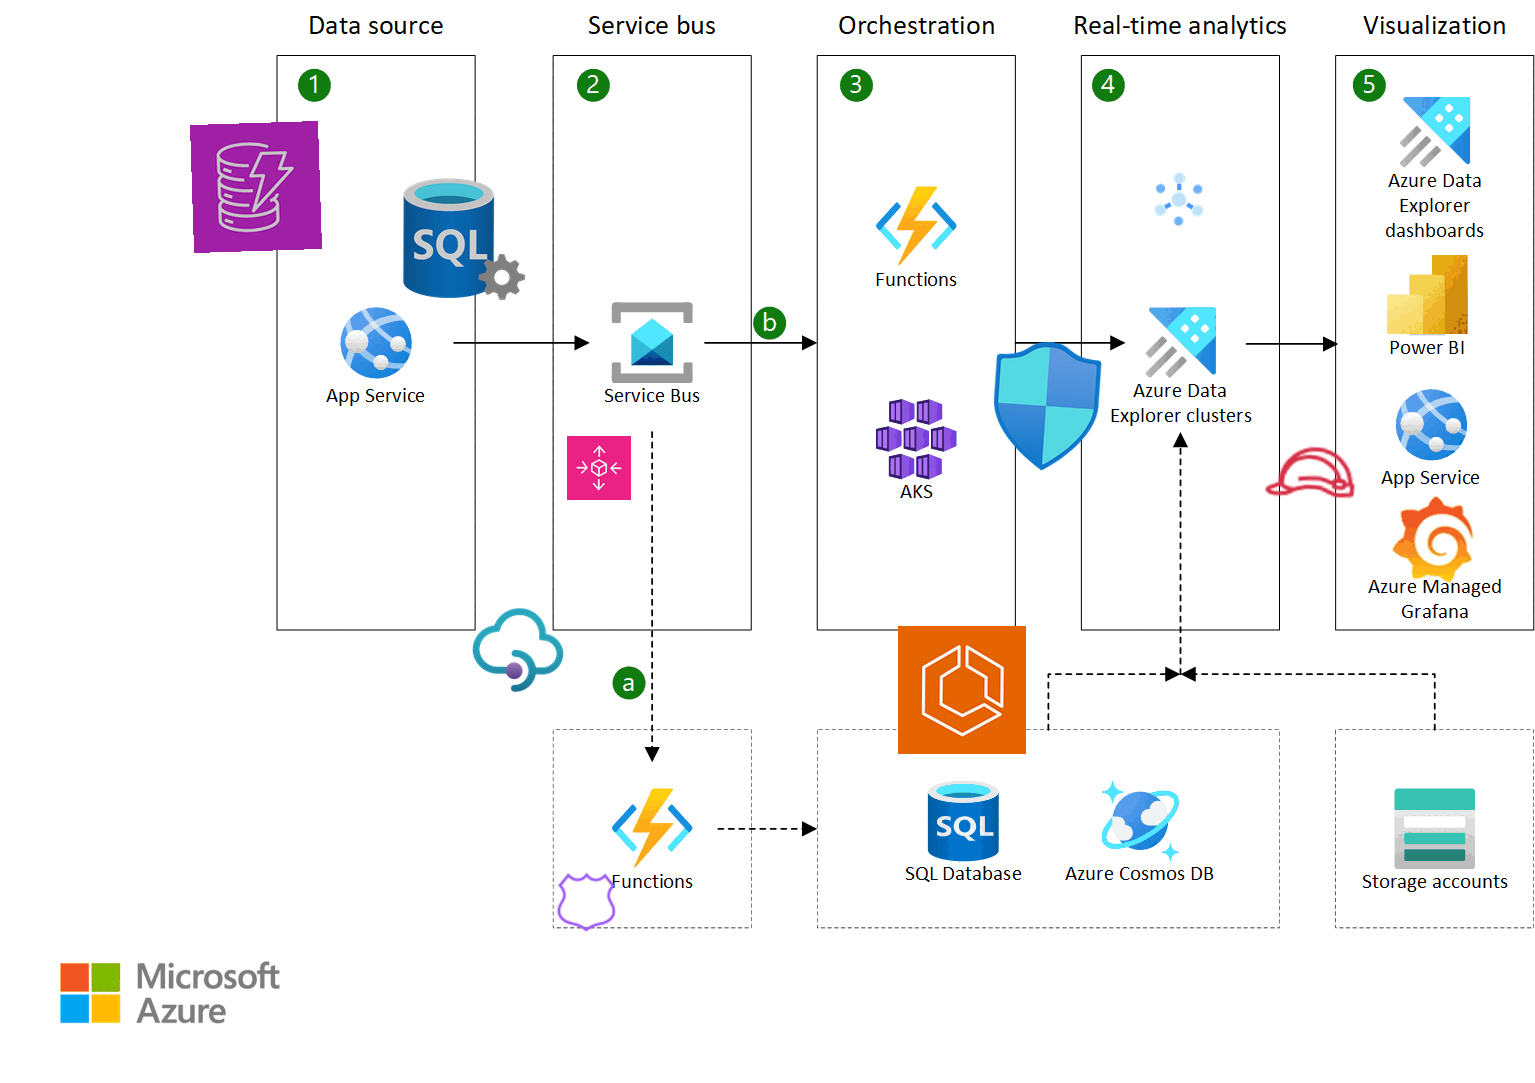aws_amazon_dynamodb: (189, 120, 323, 254)
aws_amazon_elastic_container_service: (898, 625, 1026, 755)
aws_auto_scaling: (566, 435, 632, 500)
aws_identity_access_management_role: (1258, 421, 1363, 525)
aws_route_53_hosted_zone: (554, 869, 620, 935)
azure_api_management_services: (469, 601, 567, 699)
azure_network_security_groups: (977, 338, 1116, 475)
azure_sql_server: (400, 173, 528, 304)
gcp_pubsub: (1146, 166, 1212, 232)
